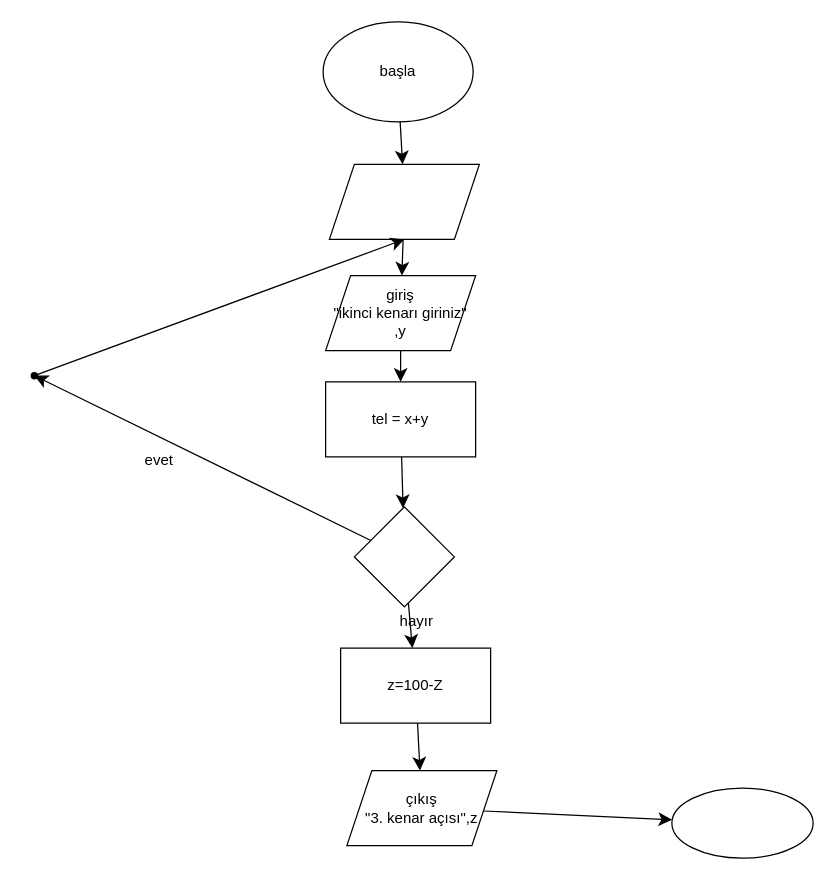
Some shapes in this 835 by 880 pixel diagram are drawn without their labels. The shapes that lost their labels are listed below. From the top down, each one's centre as x and y in pixels, then its label:
point 403,201: giriş "1. kenarı giriniz",x
point 403,556: tpl >=100
point 742,822: dur
